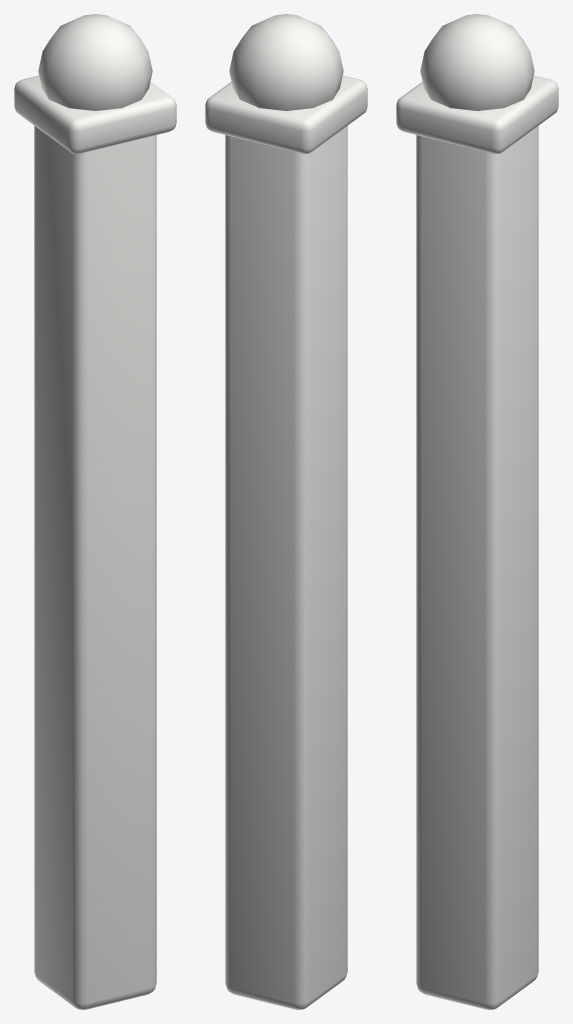
Rendered from guarda_corpo_madeira_fim.glb.
3 renders of one model, left to right at view 1: azimuth 30°, elevation 25°; view 2: azimuth 150°, elevation 25°; view 3: azimuth 330°, elevation 25°, orthographic.
Visible parts, largest first — view 1: guarda_corpo_madeira_fim; view 2: guarda_corpo_madeira_fim; view 3: guarda_corpo_madeira_fim.
Part boxes in pixels (x1,y1,x2,y2): guarda_corpo_madeira_fim: [14, 14, 176, 1009]; guarda_corpo_madeira_fim: [205, 14, 367, 1009]; guarda_corpo_madeira_fim: [396, 14, 558, 1009].
Bounding box in the file's own units: 0.13 × 1.12 × 0.13.
1 material, 1 textured.
